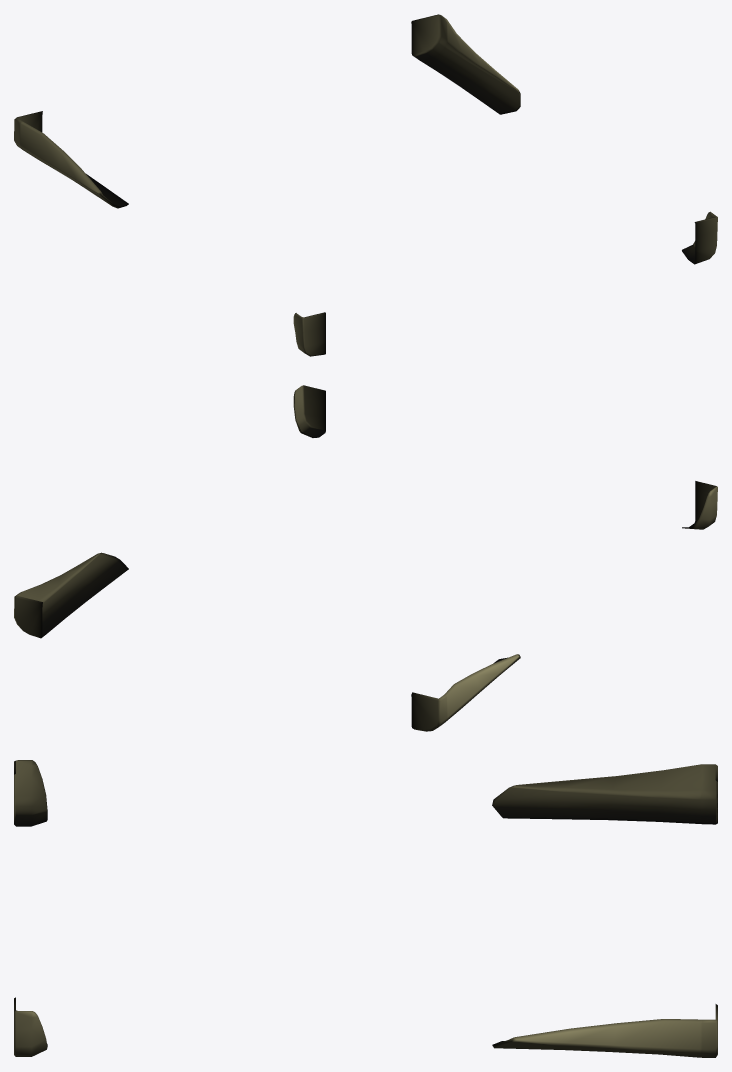
Rendered from G37_Skirt_02_Duco.fbx.
3 views of the same model, one above another, from view 1: azimuth 30°, elevation 25°; view 2: azimuth 150°, elevation 25°; view 3: azimuth 270°, elevation 25° (orthographic). The views are drawn at different scales.
Parts seen in each view (by area): view 1: G37_Skirt_02_Duco; view 2: G37_Skirt_02_Duco; view 3: G37_Skirt_02_Duco.
Part boxes in pixels (x1,y1,x2,y2): G37_Skirt_02_Duco: [14, 14, 717, 356]; G37_Skirt_02_Duco: [14, 385, 717, 731]; G37_Skirt_02_Duco: [14, 760, 717, 1057].
Size of the model in its own units: 182 by 17.3 by 209.
